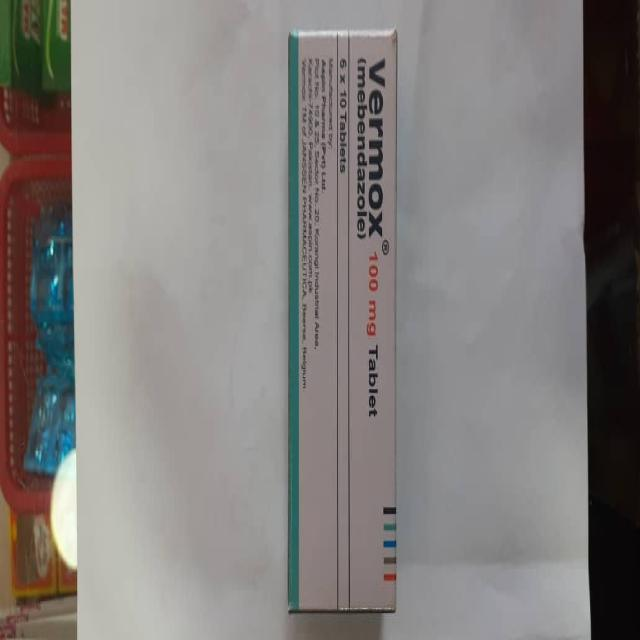drug-name: (368, 56, 388, 240)
